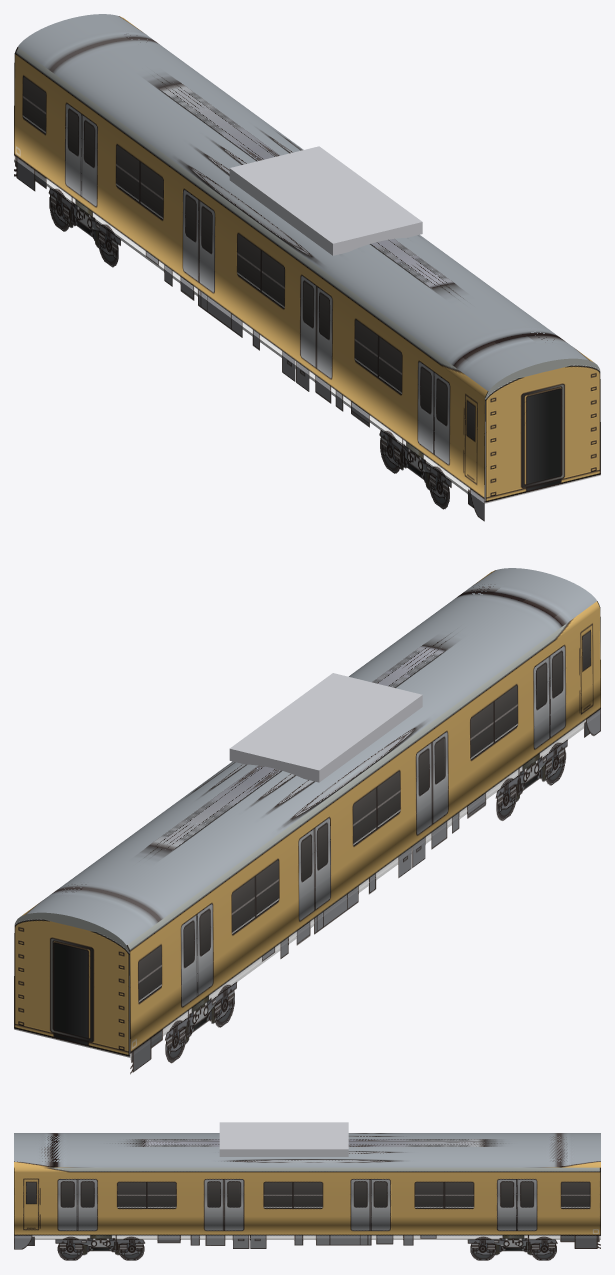
The model's file is car7.glb.
3 renders of one model, top to bottom at view 1: azimuth 30°, elevation 25°; view 2: azimuth 150°, elevation 25°; view 3: azimuth 270°, elevation 25°, orthographic. The views are drawn at different scales.
Parts seen in each view (by area): view 1: seibu2000_car7; view 2: seibu2000_car7; view 3: seibu2000_car7.
Part boxes in pixels (box(x1,y1,x2,y2)): seibu2000_car7: box(14, 14, 600, 521); seibu2000_car7: box(14, 568, 600, 1074); seibu2000_car7: box(14, 1122, 600, 1260).
Bounding box in the file's own units: 2.85 × 4.03 × 20.
Materials: 6 (4 with a texture image).
